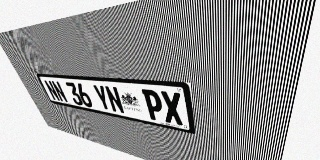3: (65, 82, 84, 106)
6: (74, 83, 94, 108)
N: (104, 86, 125, 114), (51, 81, 69, 103), (43, 80, 61, 101)
P: (141, 89, 165, 122)
X: (160, 91, 184, 126)
Y: (92, 84, 113, 112)
